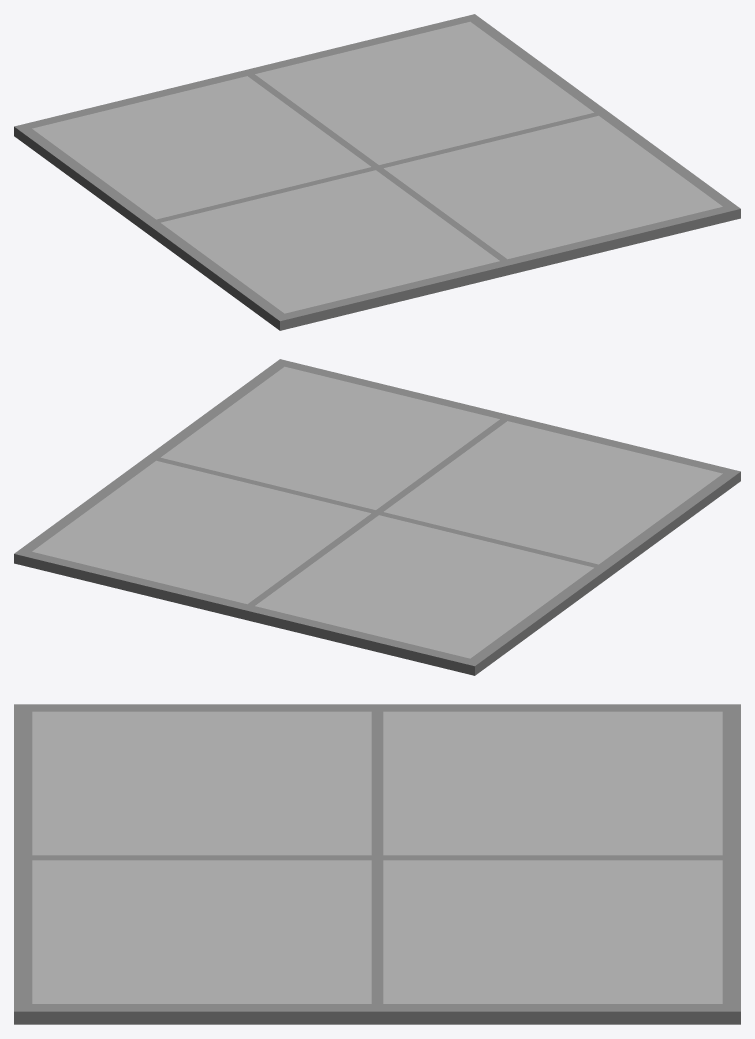
Rendered from road_006.FBX.
3 renders of one model, top to bottom at view 1: azimuth 30°, elevation 25°; view 2: azimuth 150°, elevation 25°; view 3: azimuth 270°, elevation 25°, orthographic. The views are drawn at different scales.
Visible parts, largest first — view 1: road_006; view 2: road_006; view 3: road_006.
Boxes of the visible parts, x1=… form: road_006: x1=14, y1=14, x2=740, y2=330; road_006: x1=14, y1=359, x2=740, y2=675; road_006: x1=14, y1=704, x2=740, y2=1024.
Size of the model in its own units: 500 by 10 by 500.
